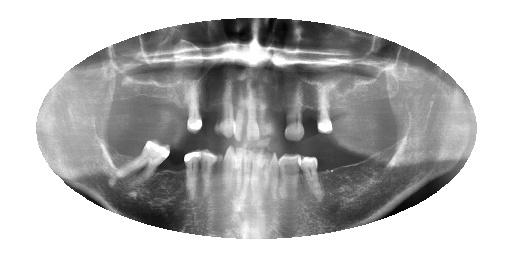Cavity: (200, 145, 220, 205)
Fillings: (106, 139, 177, 195), (296, 153, 332, 202), (279, 153, 302, 206), (316, 74, 336, 133), (186, 71, 204, 134), (183, 147, 202, 196)
